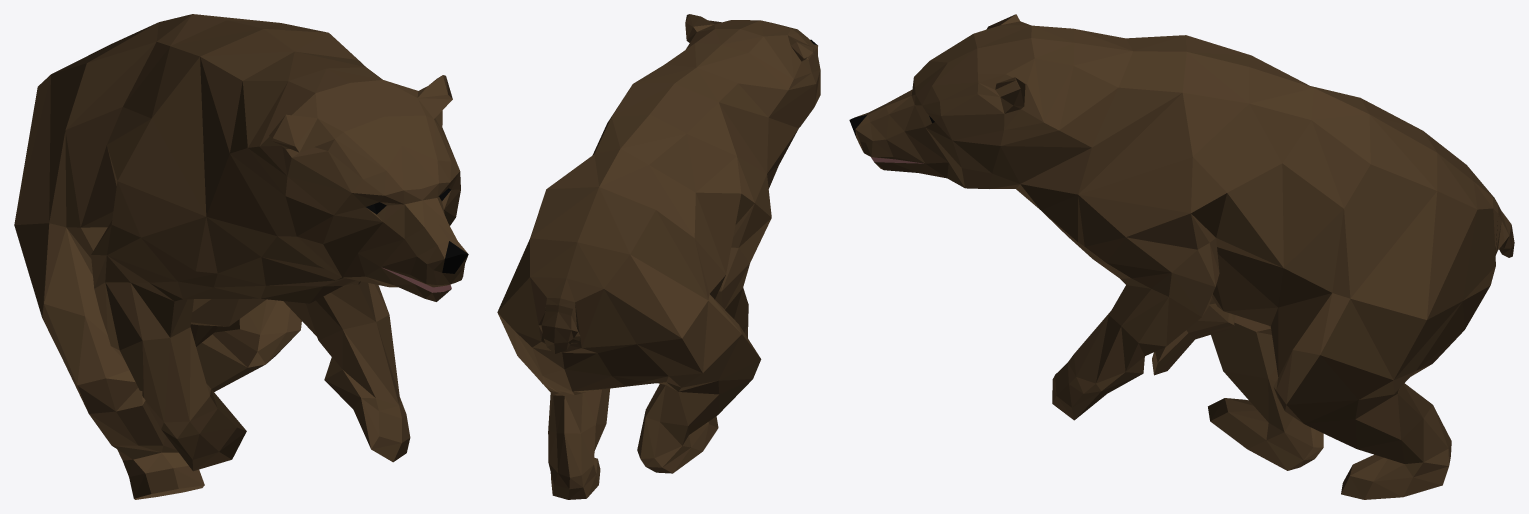
Rendered from Bear.fbx.
The picture shows the model from 3 angles, left to right: view 1: azimuth 30°, elevation 25°; view 2: azimuth 150°, elevation 25°; view 3: azimuth 270°, elevation 25°; orthographic projection. The views are drawn at different scales.
Visible parts, largest first — view 1: bearBrown_B; view 2: bearBrown_B; view 3: bearBrown_B.
Boxes of the visible parts, x1,y1,x2,y2 form: bearBrown_B: (14,14,468,499); bearBrown_B: (497,14,820,499); bearBrown_B: (849,14,1514,499).
Size of the model in its own units: 9494 by 16607 by 22538.
